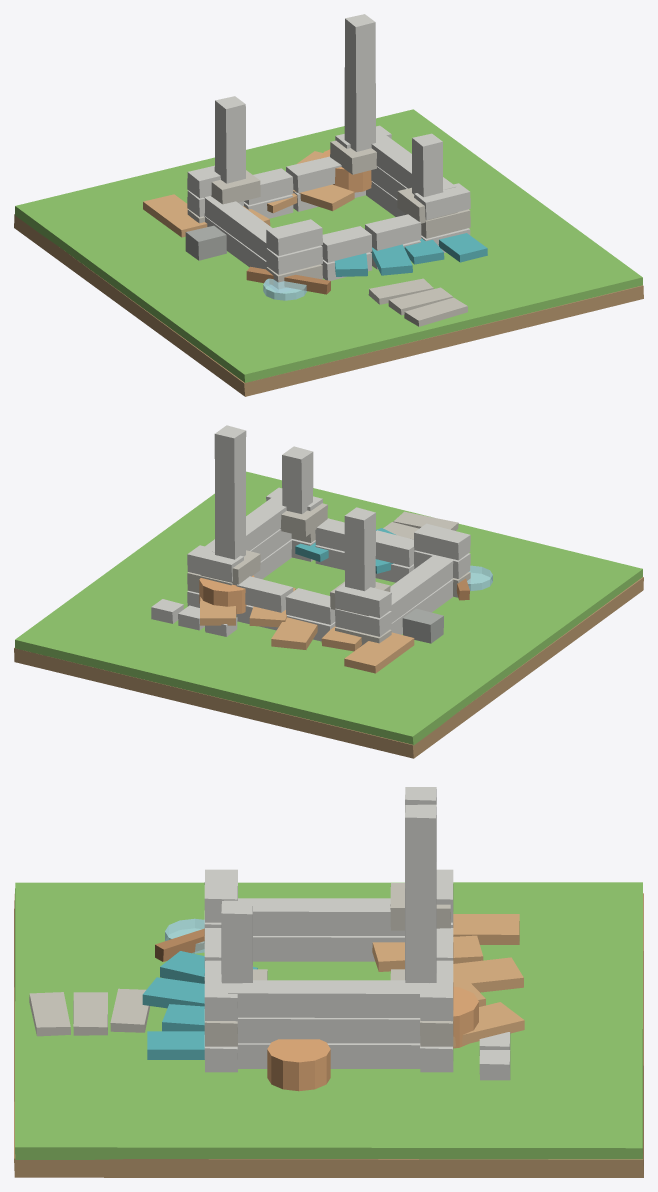
The model's file is tower_l05_ruined_LOD2.glb.
The picture shows the model from 3 angles, top to bottom: view 1: azimuth 30°, elevation 25°; view 2: azimuth 150°, elevation 25°; view 3: azimuth 270°, elevation 25°; orthographic projection. The views are drawn at different scales.
Visible parts, largest first — view 1: tower_l05_grass_tile_tower_l05_ruined_LOD2_tmp, tower_l05_earth_tile_tower_l05_ruined_LOD2_tmp, snapped_upright_0.58_0.52_tower_l05_ruined_LOD2_tmp, snapped_upright_-0.58_0.52_tower_l05_ruined_LOD2_tmp, ruin_stone_return_1_-0.72_tower_l05_ruined_LOD2_tmp, snapped_upright_0.58_-0.52_tower_l05_ruined_LOD2_tmp, ruin_stone_course_2_-1_0_tower_l05_ruined_LOD2_tmp, ruin_stone_return_2_0.72_tower_l05_ruined_LOD2_tmp, ruin_stone_course_1_-1_2_tower_l05_ruined_LOD2_tmp, collapsed_deck_0_tower_l05_ruined_LOD2_tmp, ruin_stone_course_1_-1_1_tower_l05_ruined_LOD2_tmp, ruin_stone_course_1_1_2_tower_l05_ruined_LOD2_tmp (+24 smaller); view 2: tower_l05_grass_tile_tower_l05_ruined_LOD2_tmp, tower_l05_earth_tile_tower_l05_ruined_LOD2_tmp, snapped_upright_0.58_0.52_tower_l05_ruined_LOD2_tmp, snapped_upright_-0.58_0.52_tower_l05_ruined_LOD2_tmp, ruin_stone_return_1_-0.72_tower_l05_ruined_LOD2_tmp, snapped_upright_0.58_-0.52_tower_l05_ruined_LOD2_tmp, collapsed_deck_0_tower_l05_ruined_LOD2_tmp, ruin_stone_course_2_-1_0_tower_l05_ruined_LOD2_tmp, ruin_stone_return_2_0.72_tower_l05_ruined_LOD2_tmp, ruin_stone_course_2_1_0_tower_l05_ruined_LOD2_tmp, ruin_stone_course_1_1_1_tower_l05_ruined_LOD2_tmp, ruin_stone_course_1_1_2_tower_l05_ruined_LOD2_tmp (+19 smaller); view 3: tower_l05_grass_tile_tower_l05_ruined_LOD2_tmp, tower_l05_earth_tile_tower_l05_ruined_LOD2_tmp, ruin_stone_return_2_0.72_tower_l05_ruined_LOD2_tmp, snapped_upright_0.58_0.52_tower_l05_ruined_LOD2_tmp, ruin_stone_return_1_-0.72_tower_l05_ruined_LOD2_tmp, ruin_stone_return_1_0.72_tower_l05_ruined_LOD2_tmp, ruin_stone_return_0_-0.72_tower_l05_ruined_LOD2_tmp, ruin_stone_return_0_0.72_tower_l05_ruined_LOD2_tmp, fallen_bell_tower_l05_ruined_LOD2_tmp, snapped_upright_0.58_-0.52_tower_l05_ruined_LOD2_tmp, collapsed_deck_2_tower_l05_ruined_LOD2_tmp, collapsed_deck_0_tower_l05_ruined_LOD2_tmp (+25 smaller).
Part boxes in pixels (x1,y1,x2,y2): tower_l05_grass_tile_tower_l05_ruined_LOD2_tmp: [15, 109, 642, 382]; tower_l05_earth_tile_tower_l05_ruined_LOD2_tmp: [14, 214, 643, 396]; snapped_upright_0.58_0.52_tower_l05_ruined_LOD2_tmp: [344, 14, 375, 151]; snapped_upright_-0.58_0.52_tower_l05_ruined_LOD2_tmp: [214, 96, 245, 183]; ruin_stone_return_1_-0.72_tower_l05_ruined_LOD2_tmp: [204, 196, 272, 260]; snapped_upright_0.58_-0.52_tower_l05_ruined_LOD2_tmp: [412, 133, 443, 197]; ruin_stone_course_2_-1_0_tower_l05_ruined_LOD2_tmp: [266, 219, 322, 255]; ruin_stone_return_2_0.72_tower_l05_ruined_LOD2_tmp: [371, 134, 456, 189]; ruin_stone_course_1_-1_2_tower_l05_ruined_LOD2_tmp: [365, 214, 421, 250]; collapsed_deck_0_tower_l05_ruined_LOD2_tmp: [143, 194, 207, 237]; ruin_stone_course_1_-1_1_tower_l05_ruined_LOD2_tmp: [321, 226, 372, 262]; ruin_stone_course_1_1_2_tower_l05_ruined_LOD2_tmp: [286, 156, 341, 192]; tower_l05_grass_tile_tower_l05_ruined_LOD2_tmp: [15, 471, 642, 745]; tower_l05_earth_tile_tower_l05_ruined_LOD2_tmp: [14, 577, 643, 758]; snapped_upright_0.58_0.52_tower_l05_ruined_LOD2_tmp: [214, 425, 246, 559]; snapped_upright_-0.58_0.52_tower_l05_ruined_LOD2_tmp: [344, 507, 375, 591]; ruin_stone_return_1_-0.72_tower_l05_ruined_LOD2_tmp: [390, 555, 453, 622]; snapped_upright_0.58_-0.52_tower_l05_ruined_LOD2_tmp: [282, 446, 313, 513]; collapsed_deck_0_tower_l05_ruined_LOD2_tmp: [344, 632, 414, 673]; ruin_stone_course_2_-1_0_tower_l05_ruined_LOD2_tmp: [414, 523, 470, 560]; ruin_stone_return_2_0.72_tower_l05_ruined_LOD2_tmp: [205, 495, 286, 552]; ruin_stone_course_2_1_0_tower_l05_ruined_LOD2_tmp: [335, 583, 391, 617]; ruin_stone_course_1_1_1_tower_l05_ruined_LOD2_tmp: [285, 588, 335, 624]; ruin_stone_course_1_1_2_tower_l05_ruined_LOD2_tmp: [236, 576, 293, 612]; tower_l05_grass_tile_tower_l05_ruined_LOD2_tmp: [15, 882, 642, 1159]; tower_l05_earth_tile_tower_l05_ruined_LOD2_tmp: [14, 893, 643, 1177]; ruin_stone_return_2_0.72_tower_l05_ruined_LOD2_tmp: [228, 980, 429, 1017]; snapped_upright_0.58_0.52_tower_l05_ruined_LOD2_tmp: [405, 804, 436, 982]; ruin_stone_return_1_-0.72_tower_l05_ruined_LOD2_tmp: [238, 898, 404, 935]; ruin_stone_return_1_0.72_tower_l05_ruined_LOD2_tmp: [237, 1017, 420, 1043]; ruin_stone_return_0_-0.72_tower_l05_ruined_LOD2_tmp: [253, 936, 404, 961]; ruin_stone_return_0_0.72_tower_l05_ruined_LOD2_tmp: [237, 1043, 420, 1068]; fallen_bell_tower_l05_ruined_LOD2_tmp: [267, 1039, 330, 1091]; snapped_upright_0.58_-0.52_tower_l05_ruined_LOD2_tmp: [221, 900, 252, 983]; collapsed_deck_2_tower_l05_ruined_LOD2_tmp: [453, 957, 523, 992]; collapsed_deck_0_tower_l05_ruined_LOD2_tmp: [453, 914, 519, 944].
Bounding box in the file's own units: 3.57 × 1.73 × 3.57.
